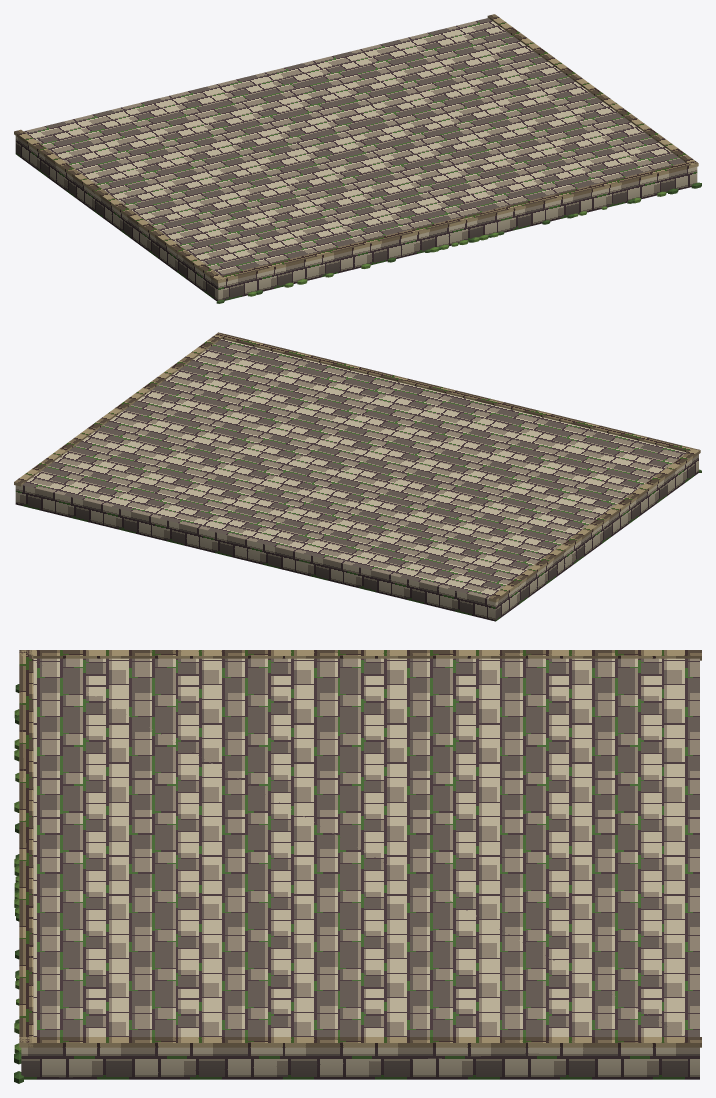
The model's file is scene_wall_s.glb.
3 views of the same model, one above another, from view 1: azimuth 30°, elevation 25°; view 2: azimuth 150°, elevation 25°; view 3: azimuth 270°, elevation 25° (orthographic). The views are drawn at different scales.
Parts seen in each view (by area): view 1: scene_wall_s; view 2: scene_wall_s; view 3: scene_wall_s.
Part boxes in pixels (<box>): scene_wall_s: <box>14,14,701,303</box>; scene_wall_s: <box>14,332,701,621</box>; scene_wall_s: <box>14,650,701,1083</box>.
Bounding box in the file's own units: 24.31 × 1.17 × 17.84.
2 materials, 1 textured.
